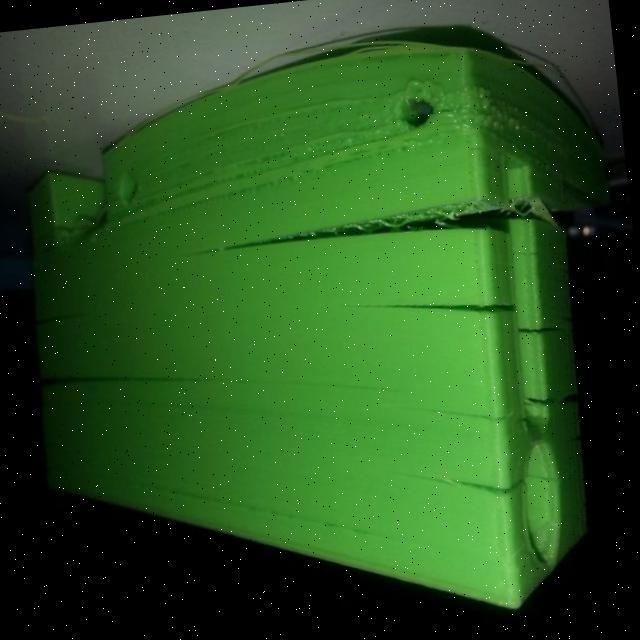cracks: (188, 148, 586, 362), (421, 374, 600, 540)
